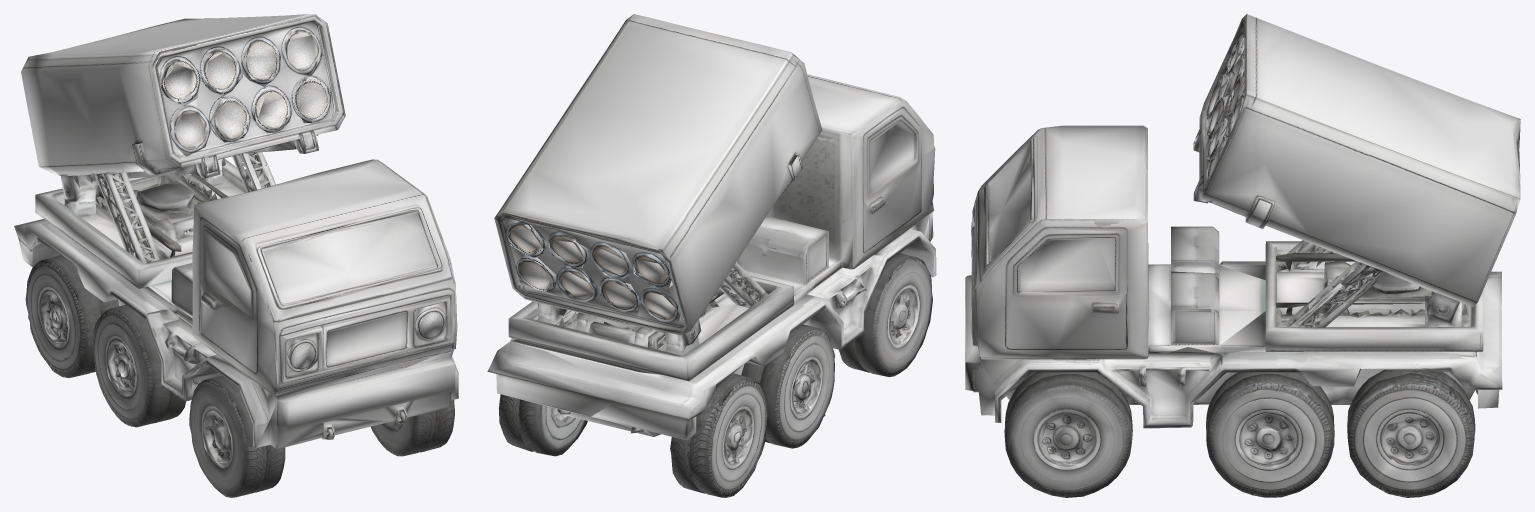
Rendered from 导弹车.glb.
3 views of the same model, side by side, from view 1: azimuth 30°, elevation 25°; view 2: azimuth 150°, elevation 25°; view 3: azimuth 270°, elevation 25° (orthographic). The views are drawn at different scales.
Parts seen in each view (by area): view 1: tripo_part_4, tripo_part_3, tripo_part_0, tripo_part_7, tripo_part_9, tripo_part_20, tripo_part_14, tripo_part_1, tripo_part_15, tripo_part_26, tripo_part_35, tripo_part_40 (+11 smaller); view 2: tripo_part_3, tripo_part_4, tripo_part_0, tripo_part_9, tripo_part_20, tripo_part_14, tripo_part_7, tripo_part_16, tripo_part_18, tripo_part_22, tripo_part_1, tripo_part_32 (+10 smaller); view 3: tripo_part_3, tripo_part_4, tripo_part_7, tripo_part_0, tripo_part_21, tripo_part_6, tripo_part_17, tripo_part_2, tripo_part_10, tripo_part_5, tripo_part_16, tripo_part_11 (+2 smaller).
Part boxes in pixels (bbox=[...]): tripo_part_4: bbox=[14, 159, 457, 447]; tripo_part_3: bbox=[21, 14, 345, 188]; tripo_part_0: bbox=[35, 158, 252, 307]; tripo_part_7: bbox=[256, 348, 458, 449]; tripo_part_9: bbox=[25, 255, 100, 378]; tripo_part_20: bbox=[93, 304, 170, 427]; tripo_part_14: bbox=[189, 376, 266, 497]; tripo_part_1: bbox=[94, 172, 159, 263]; tripo_part_15: bbox=[371, 410, 435, 456]; tripo_part_26: bbox=[169, 98, 212, 156]; tripo_part_35: bbox=[241, 39, 283, 86]; tripo_part_40: bbox=[252, 87, 291, 133]; tripo_part_3: bbox=[494, 14, 822, 335]; tripo_part_4: bbox=[512, 74, 936, 440]; tripo_part_0: bbox=[508, 275, 813, 380]; tripo_part_9: bbox=[689, 373, 767, 497]; tripo_part_20: bbox=[759, 324, 834, 448]; tripo_part_14: bbox=[854, 253, 932, 377]; tripo_part_7: bbox=[487, 212, 933, 416]; tripo_part_16: bbox=[518, 399, 587, 456]; tripo_part_18: bbox=[889, 286, 918, 347]; tripo_part_22: bbox=[791, 357, 823, 419]; tripo_part_1: bbox=[719, 262, 768, 307]; tripo_part_32: bbox=[590, 242, 632, 278]; tripo_part_3: bbox=[1193, 14, 1520, 306]; tripo_part_4: bbox=[971, 125, 1501, 359]; tripo_part_7: bbox=[965, 275, 1502, 428]; tripo_part_0: bbox=[1219, 241, 1483, 358]; tripo_part_21: bbox=[1206, 374, 1334, 497]; tripo_part_6: bbox=[1004, 374, 1132, 497]; tripo_part_17: bbox=[1347, 373, 1475, 497]; tripo_part_2: bbox=[1277, 271, 1385, 327]; tripo_part_10: bbox=[1006, 369, 1477, 404]; tripo_part_5: bbox=[1304, 261, 1381, 315]; tripo_part_16: bbox=[1347, 369, 1475, 432]; tripo_part_11: bbox=[1206, 372, 1334, 429].
Size of the model in its own units: 0.4604 by 0.7792 by 1.
Materials: 51 (51 with a texture image).
